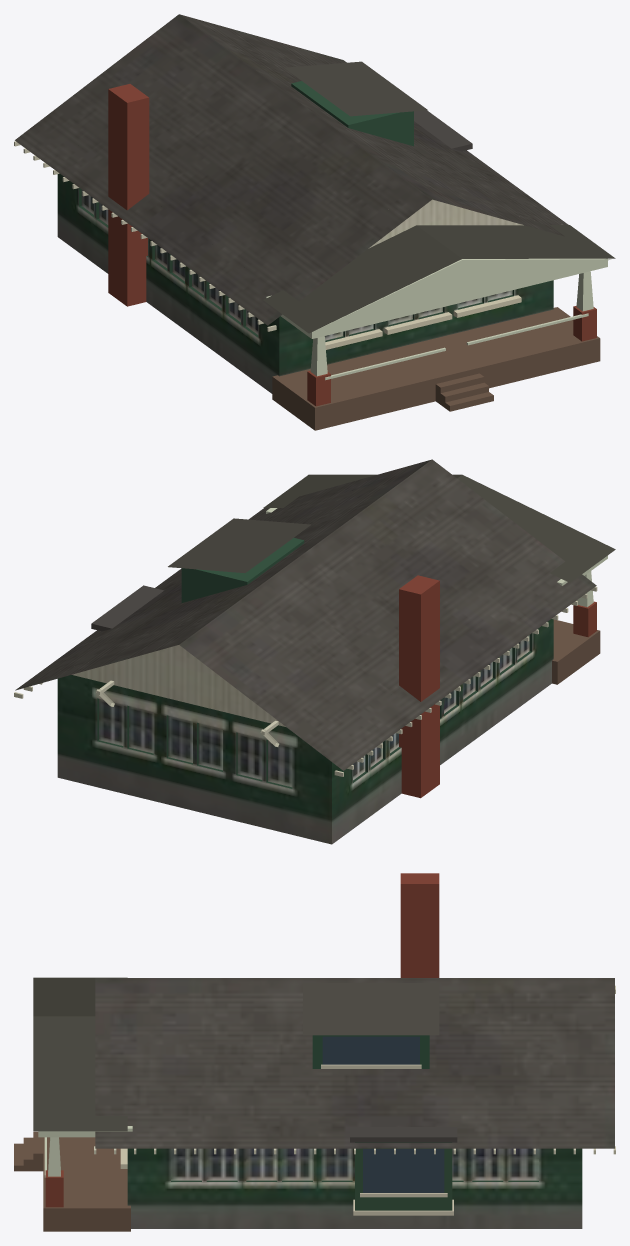
Rendered from seattle_house_a.glb.
3 views of the same model, one above another, from view 1: azimuth 30°, elevation 25°; view 2: azimuth 150°, elevation 25°; view 3: azimuth 270°, elevation 25° (orthographic). The views are drawn at different scales.
Parts seen in each view (by area): view 1: seattle_house_a; view 2: seattle_house_a; view 3: seattle_house_a.
Part boxes in pixels (x1,y1,x2,y2): seattle_house_a: [14, 14, 615, 430]; seattle_house_a: [14, 459, 615, 844]; seattle_house_a: [14, 873, 615, 1231].
Size of the model in its own units: 12 by 7.1 by 18.53.
1 material, 1 textured.
